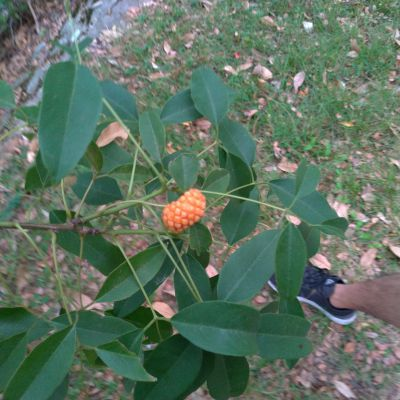eggs: (160, 186, 211, 230)
